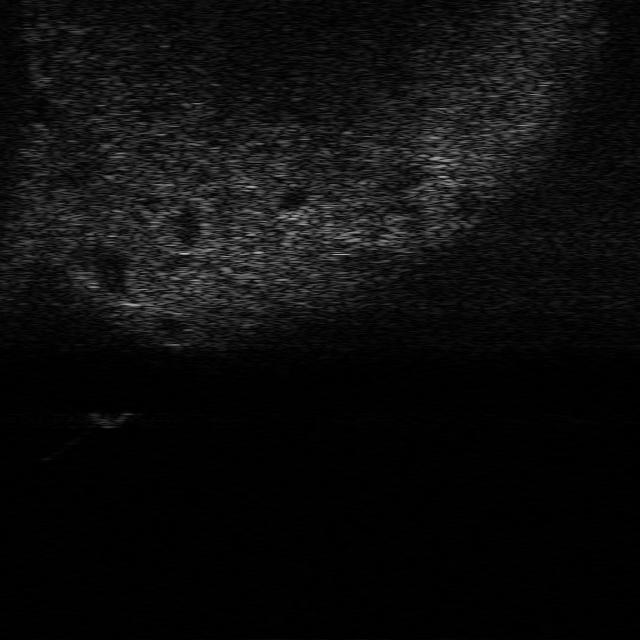cube: (89, 411, 136, 429)
